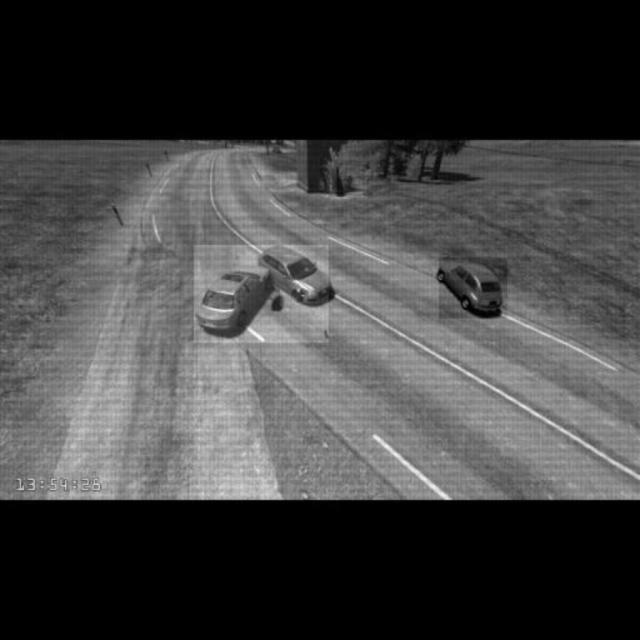accident: (194, 245, 328, 343)
vehicle: (439, 258, 507, 319)
